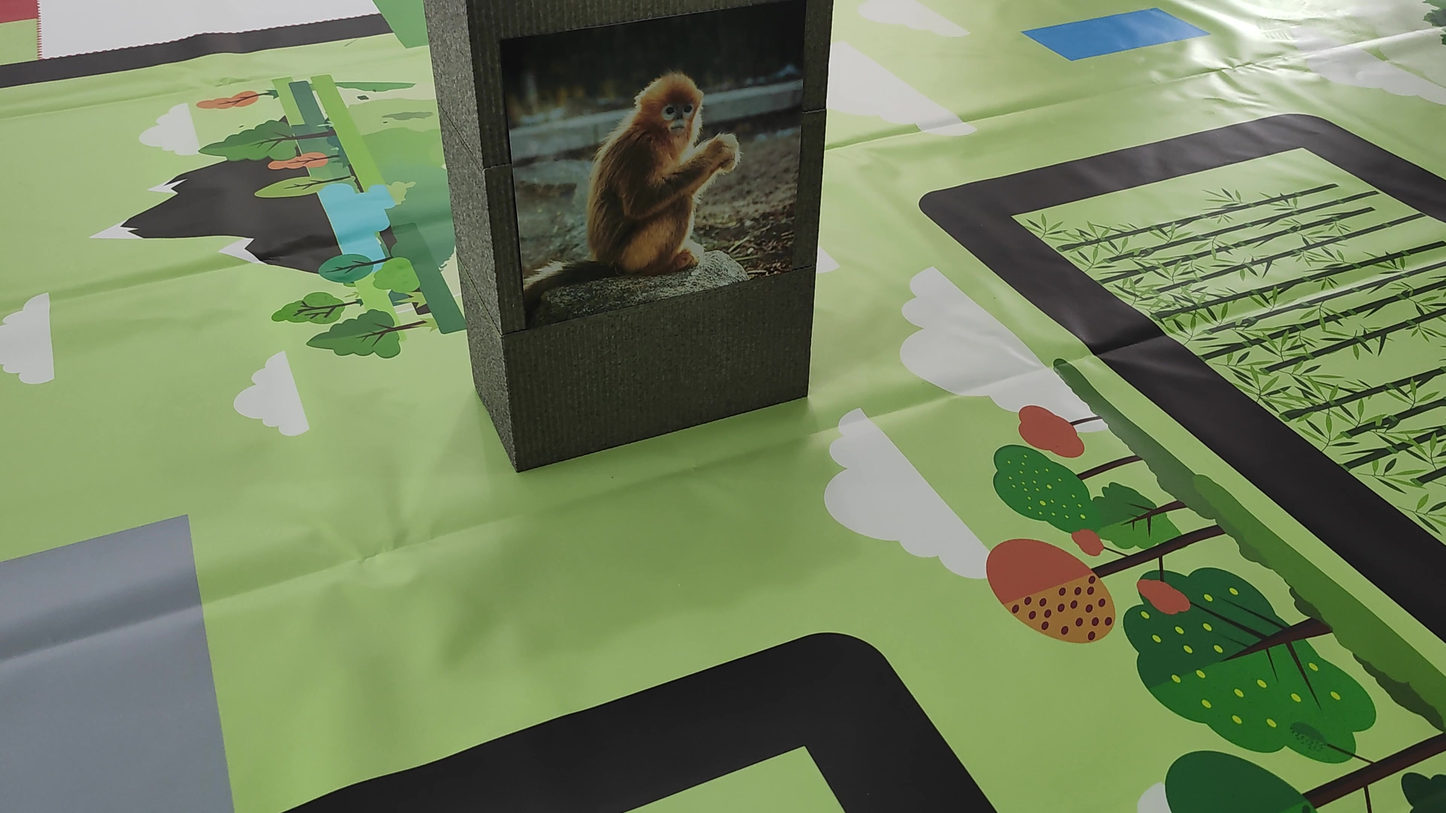monkey: (527, 51, 747, 320)
